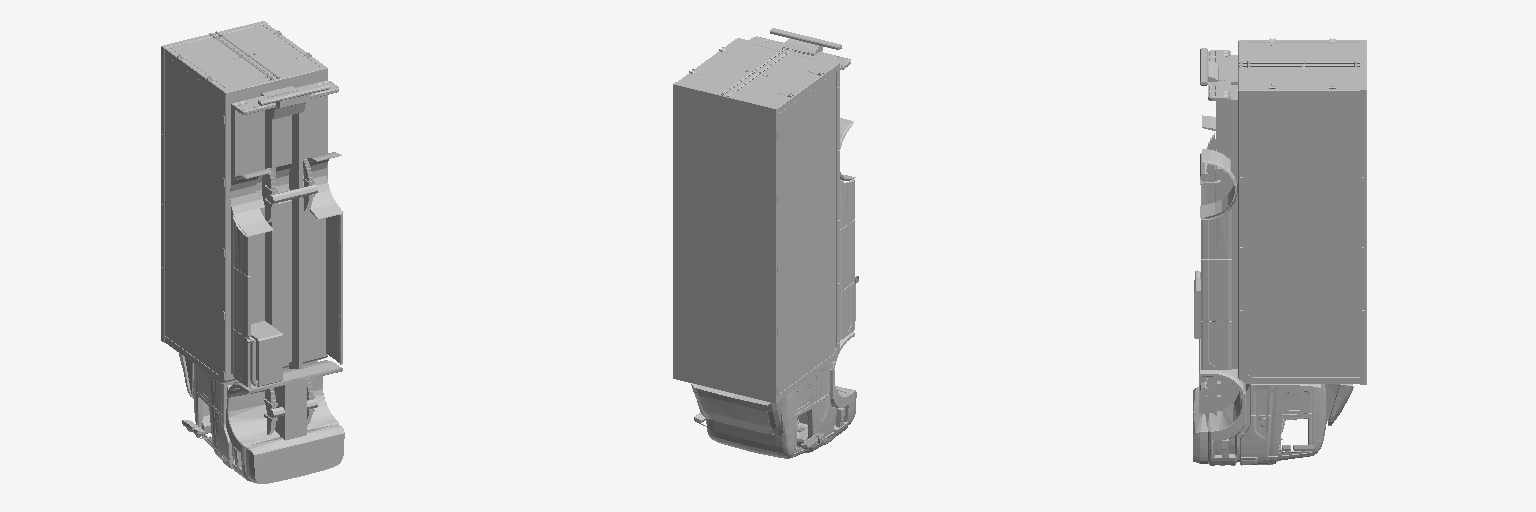
Rendered from main.obj.
3 views of the same model, side by side, from view 1: azimuth 30°, elevation 25°; view 2: azimuth 150°, elevation 25°; view 3: azimuth 270°, elevation 25° (orthographic).
Parts seen in each view (by area): view 1: body_lights_gls_oldhead; view 2: body_lights_gls_oldhead; view 3: body_lights_gls_oldhead.
Part boxes in pixels (bbox=[...]): body_lights_gls_oldhead: bbox=[161, 21, 344, 483]; body_lights_gls_oldhead: bbox=[673, 28, 858, 458]; body_lights_gls_oldhead: bbox=[1193, 38, 1366, 465].
Bounding box in the file's own units: 2.79 × 8.98 × 3.65.